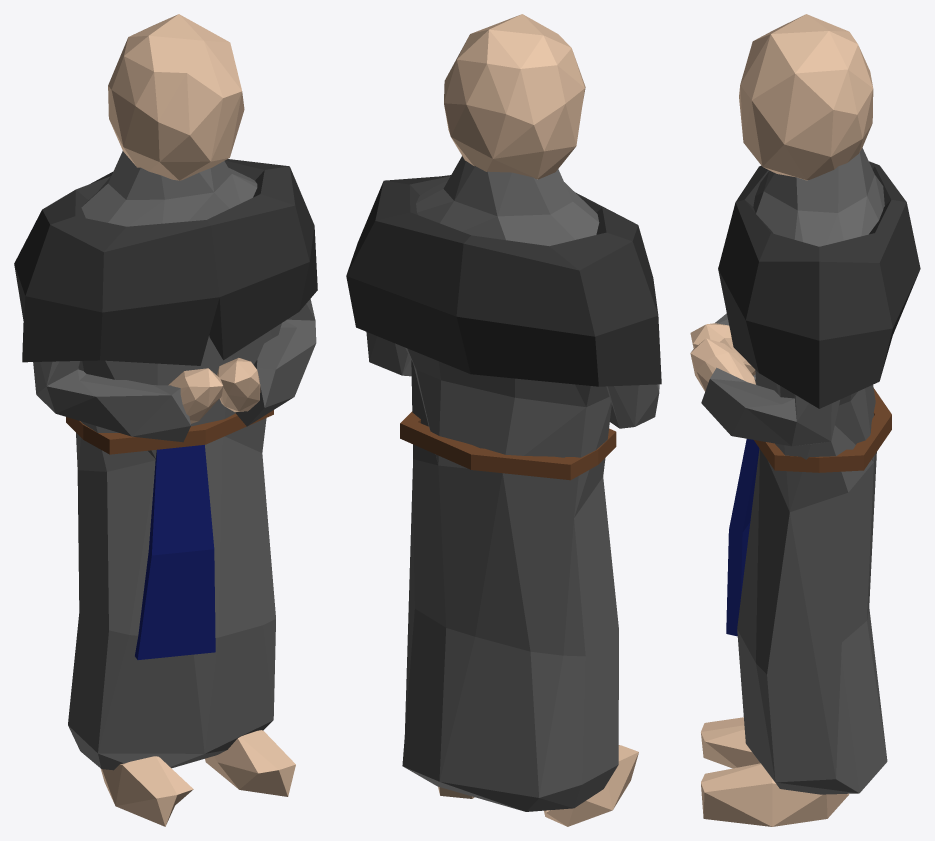
File: priest_model.fbx
3 renders of one model, left to right at view 1: azimuth 30°, elevation 25°; view 2: azimuth 150°, elevation 25°; view 3: azimuth 270°, elevation 25°, orthographic. The views are drawn at different scales.
Visible parts, largest first — view 1: Priest; view 2: Priest; view 3: Priest.
Boxes of the visible parts, x1,y1,x2,y2 form: Priest: (14,14,317,826); Priest: (346,14,661,826); Priest: (690,14,920,826).
Bounding box in the file's own units: 75.75 × 115 × 277.
